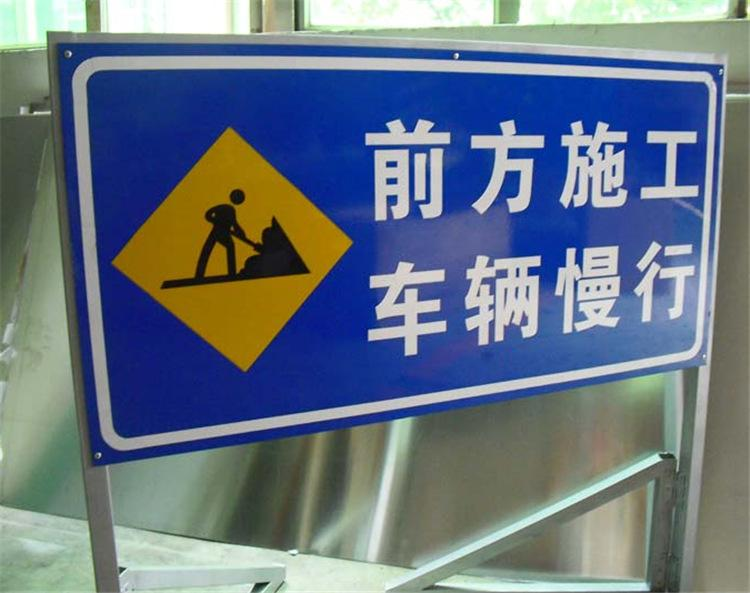sign: (64, 50, 714, 373)
